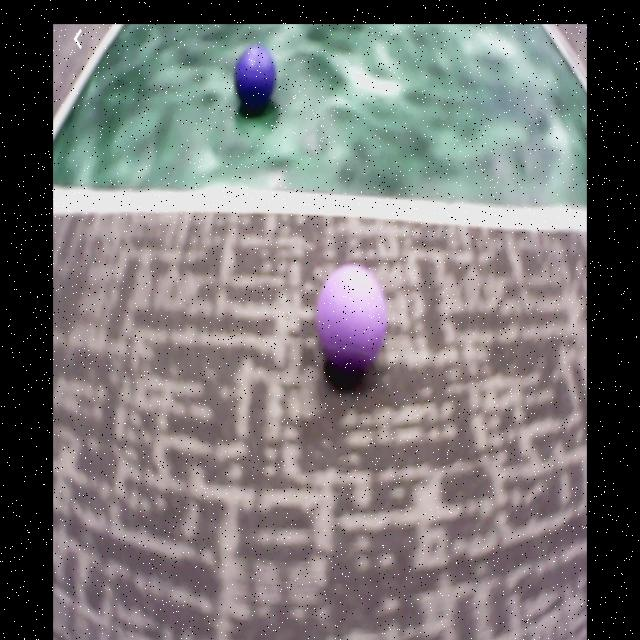ball: (319, 265, 386, 366), (237, 49, 276, 108)
